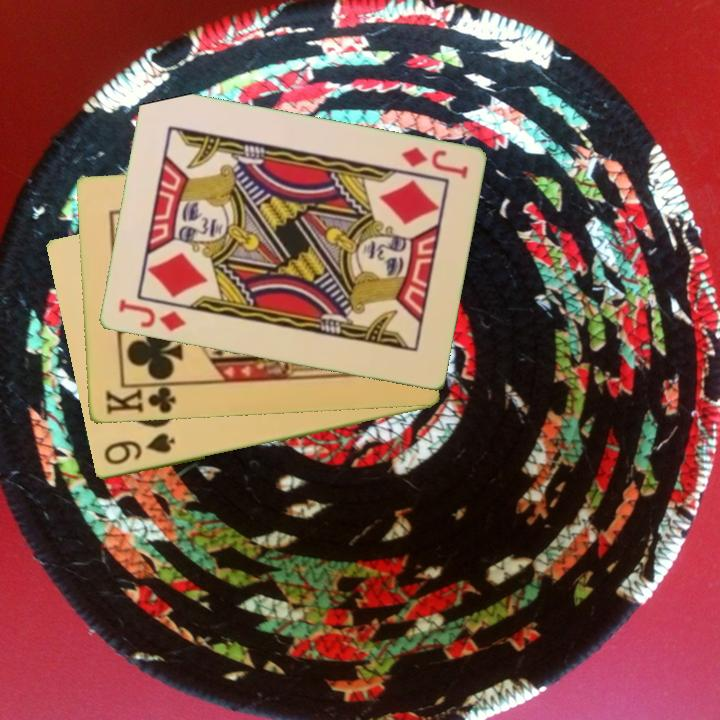9s: (100, 430, 178, 469)
Jd: (114, 296, 189, 335), (397, 144, 471, 182)
Kc: (102, 381, 180, 418)
